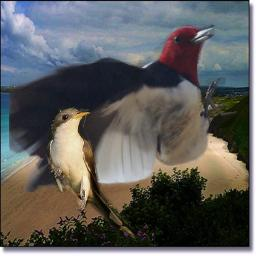Cuckoo: (46, 107, 139, 242)
Woodpecker: (9, 16, 237, 192)
